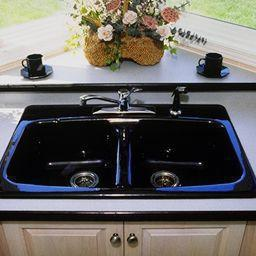Lavamanos: (0, 87, 255, 194)
